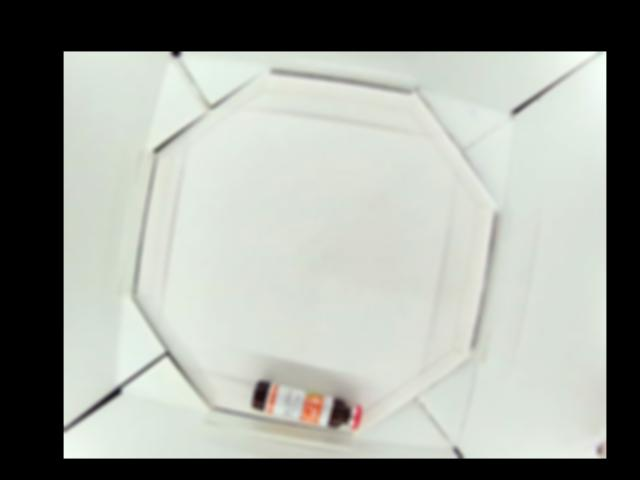Medicine: (249, 380, 361, 429)
